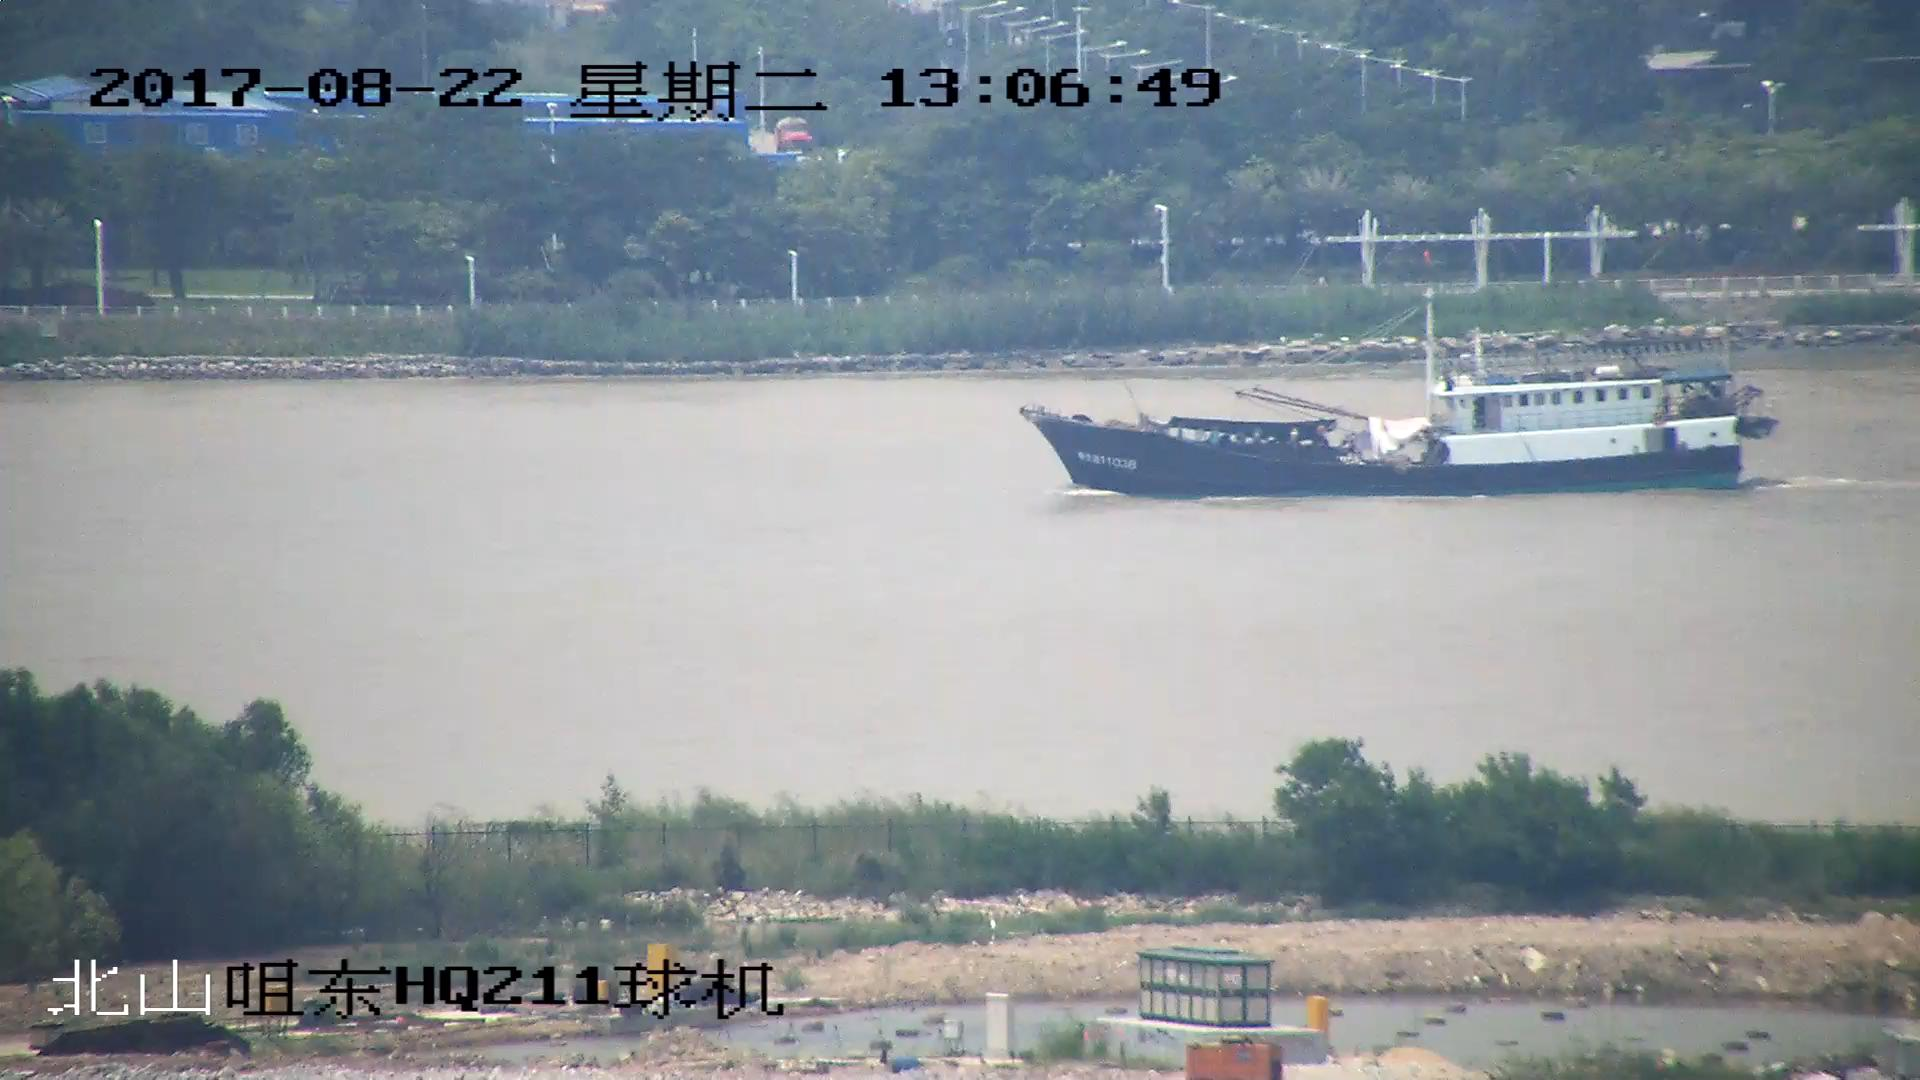fishing boat: (1023, 262, 1771, 498)
